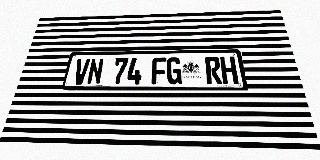4: (126, 58, 142, 84)
7: (112, 58, 128, 84)
F: (151, 57, 166, 84)
G: (167, 57, 182, 84)
H: (220, 56, 239, 84)
N: (86, 58, 104, 84)
R: (205, 57, 222, 84)
V: (72, 59, 90, 85)
